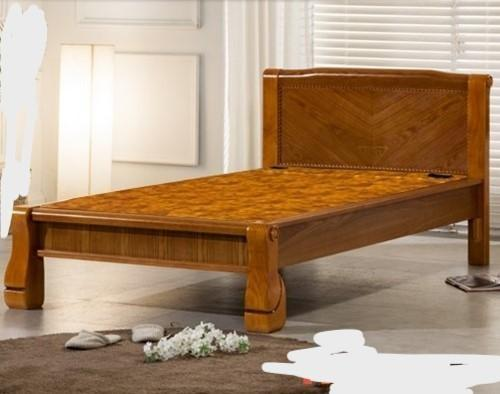Bed-Mattress: (4, 62, 500, 333)
